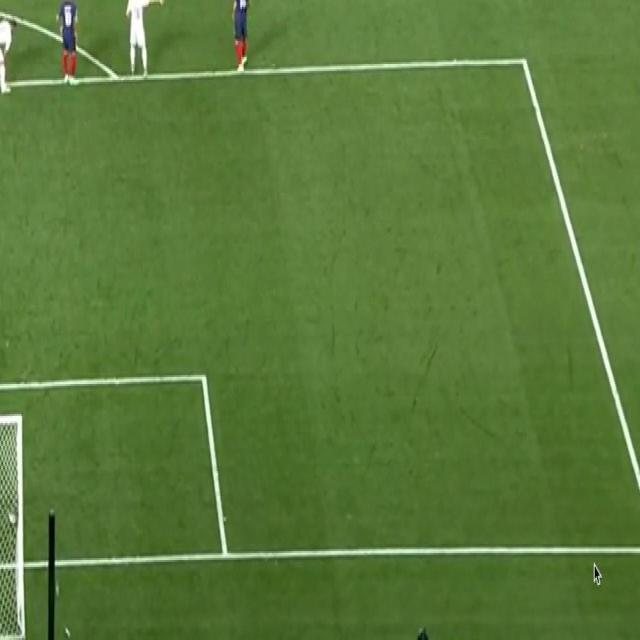player-white: (124, 0, 167, 84), (55, 0, 79, 92), (229, 0, 252, 80), (0, 14, 18, 94)
